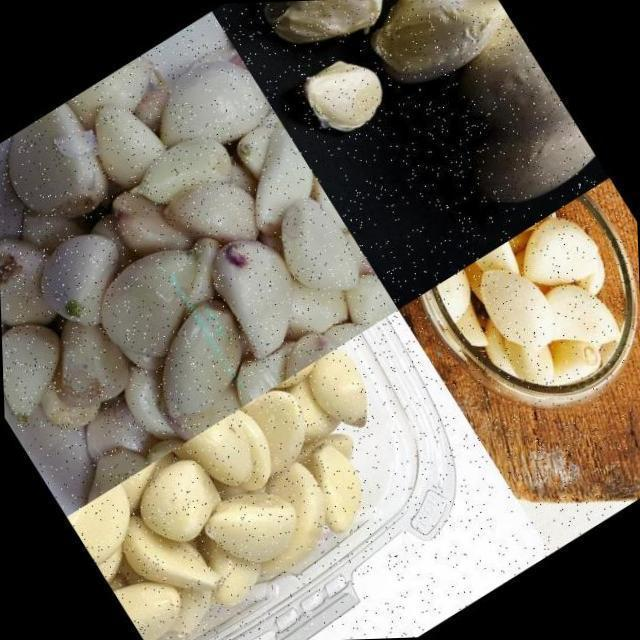garlic: (0, 4, 403, 516), (61, 339, 435, 640), (423, 196, 640, 431), (387, 0, 603, 233), (356, 0, 517, 99), (244, 0, 407, 78), (286, 39, 399, 150)
